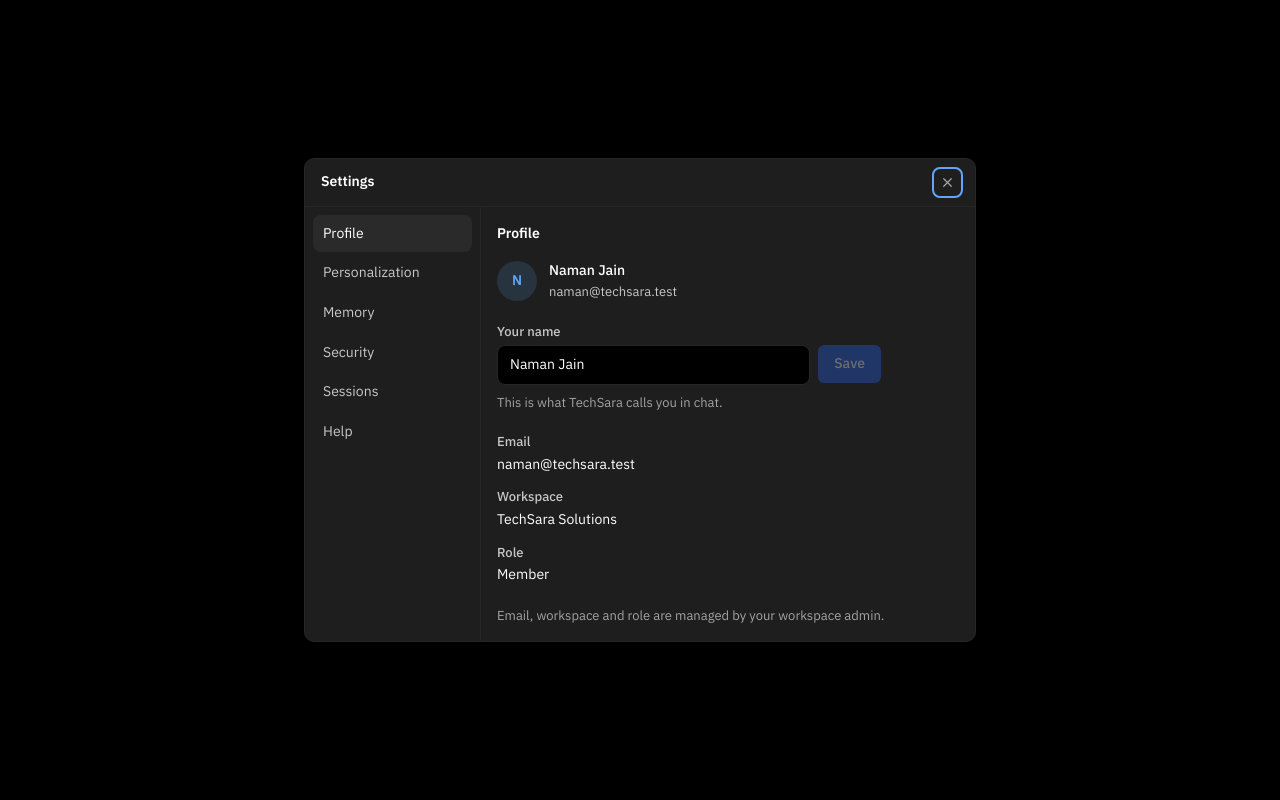
ACCOUNT-THEME · Settings still owns the theme › ACCOUNT-THEME-06 · the Appearance/Theme control is still there
Click the button "Personalization".
click(392, 273)  # box x1=313 y1=254 x2=472 y2=292
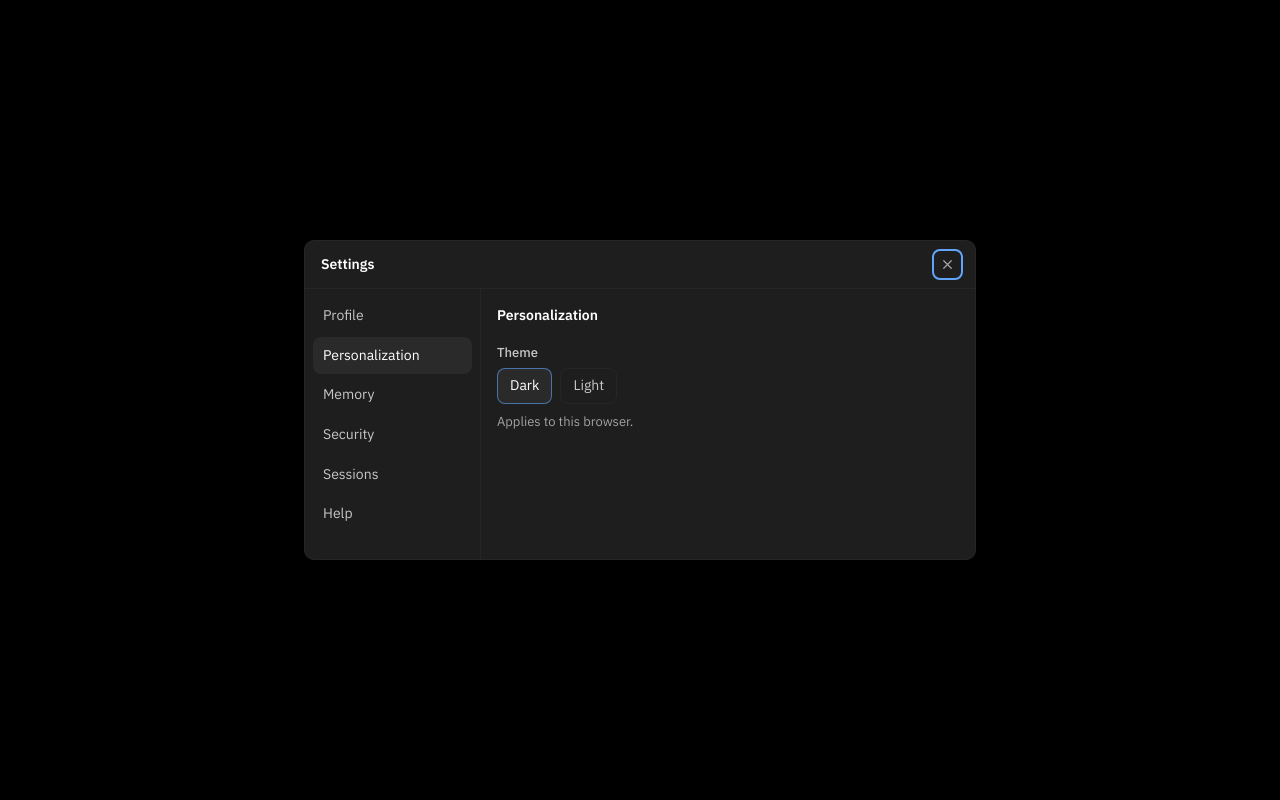
Result: the radio button labelled "Dark" is shown at x1=497 y1=368 x2=552 y2=404
Result: the radio button labelled "Light" is shown at x1=560 y1=368 x2=617 y2=404
